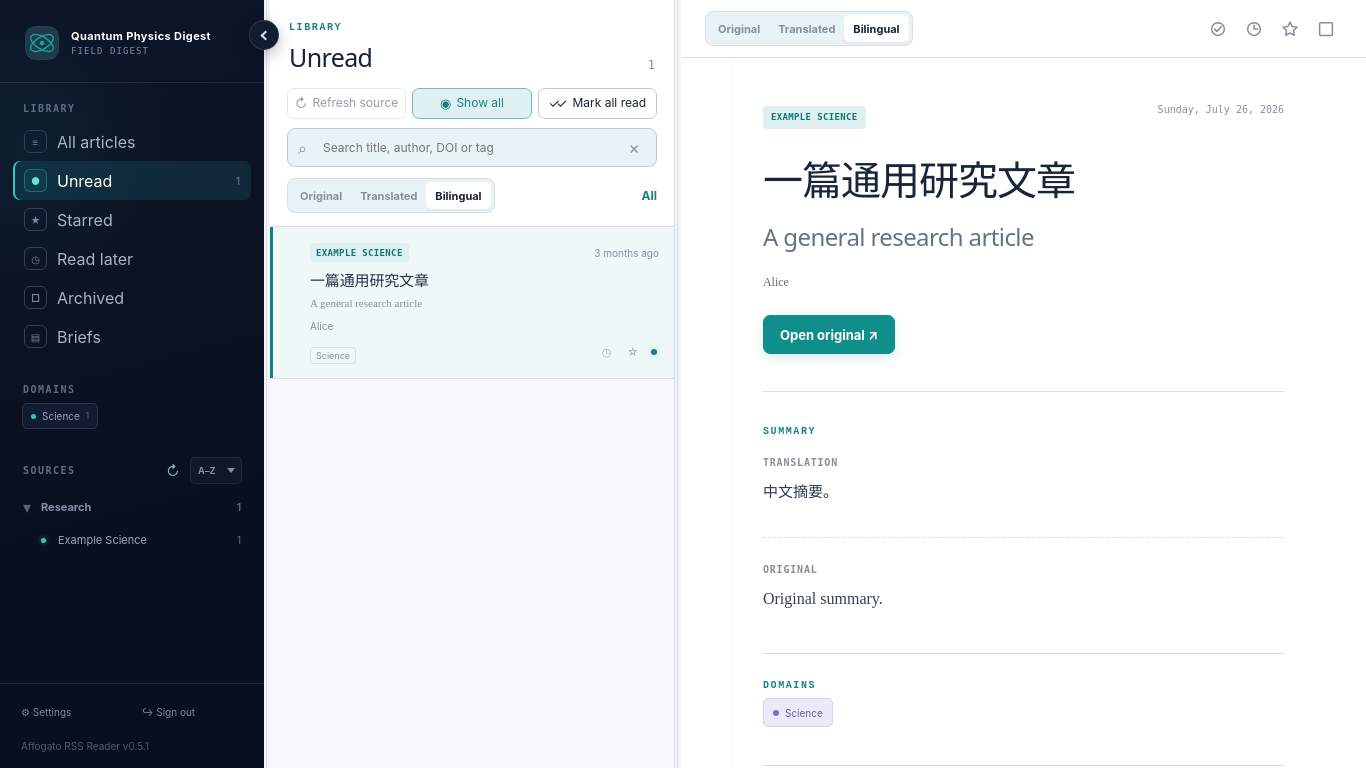
Test: Affogato RSS Reader › opens briefs as an integrated workspace
Expected: the heading "Unread" is shown, x1=289 y1=40 x2=372 y2=74
Click the button "▤ Briefs": {"x": 132, "y": 336} x1=13 y1=317 x2=251 y2=356
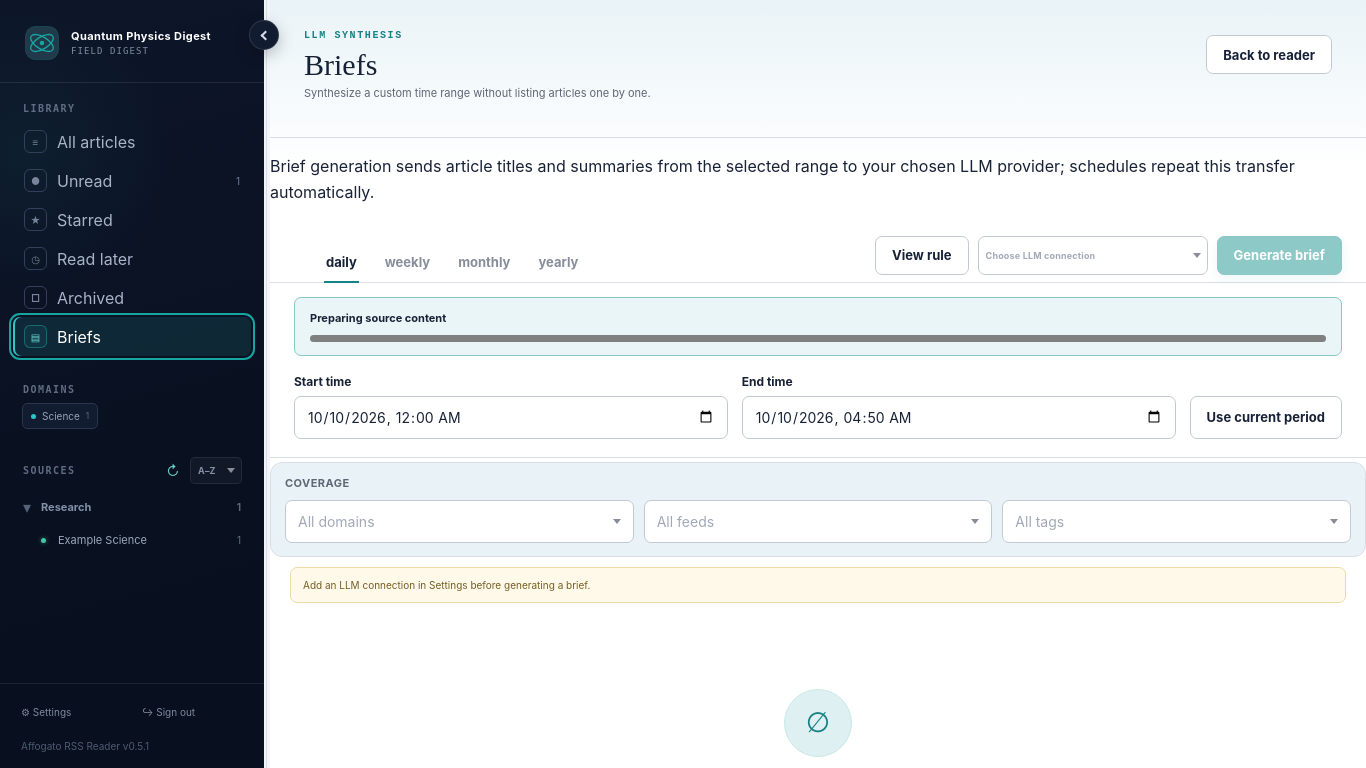
Now the heading "Briefs" is shown, box x1=304 y1=48 x2=377 y2=81
